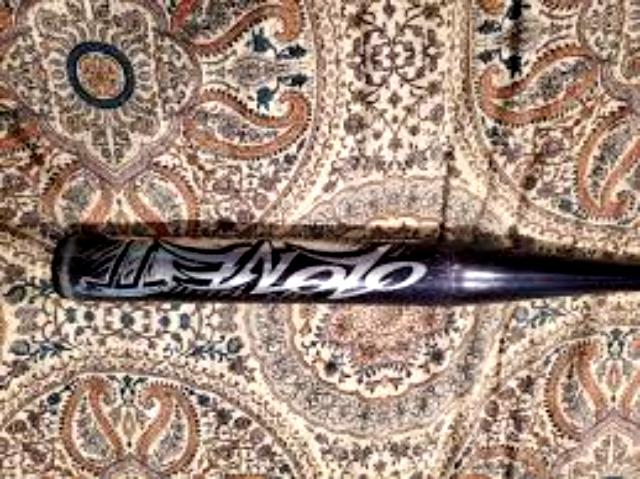baseball bat: (49, 223, 637, 304)
